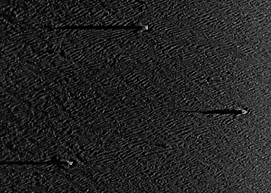mine: (48, 24, 149, 32), (0, 160, 72, 167), (182, 109, 247, 114)
